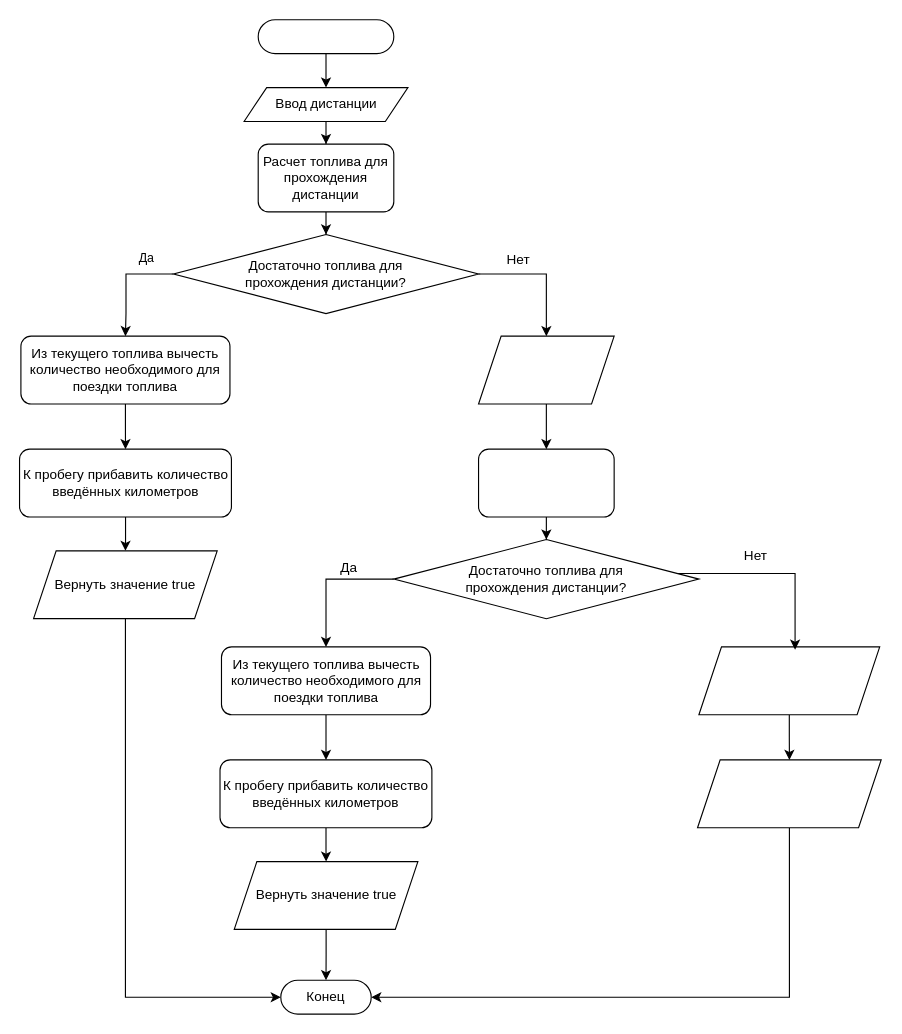
Image size: 902x1034. Some labels were removed from this diagram. The shapes that lost their labels are listed below. From the top down, each one's centre as x and y in pixels, then its label:
pixel 325 36: Начало
pixel 545 369: Вывод: "Недостаточно топлива для поездки"
pixel 545 482: Заправить полный бак
pixel 789 680: Вывод: "Не удалось проехать даже после дозаправки"
pixel 788 793: Вернуть значение false
